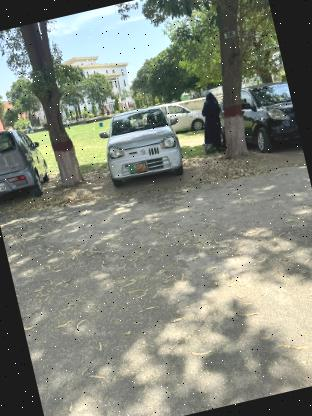car: (90, 98, 189, 190), (0, 118, 54, 208)
tree: (182, 0, 281, 164), (9, 18, 91, 192)
